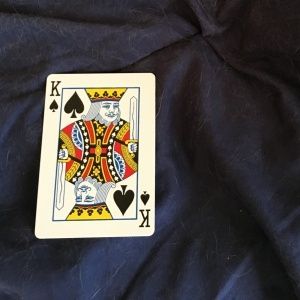card: (33, 70, 157, 239)
